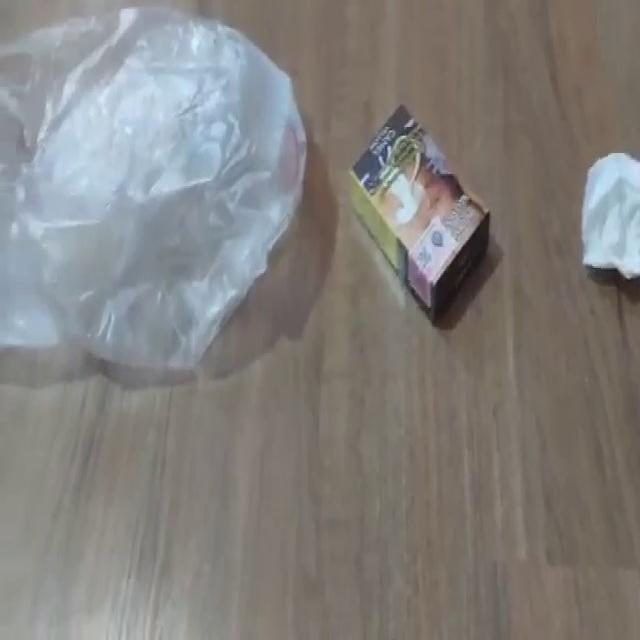Anorganik: (1, 2, 310, 377)
Organik: (348, 98, 495, 332), (579, 146, 640, 284)
